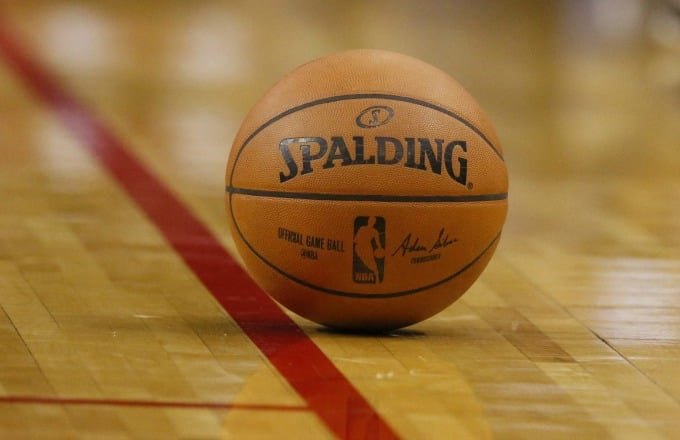Basketball: (220, 43, 516, 342)
